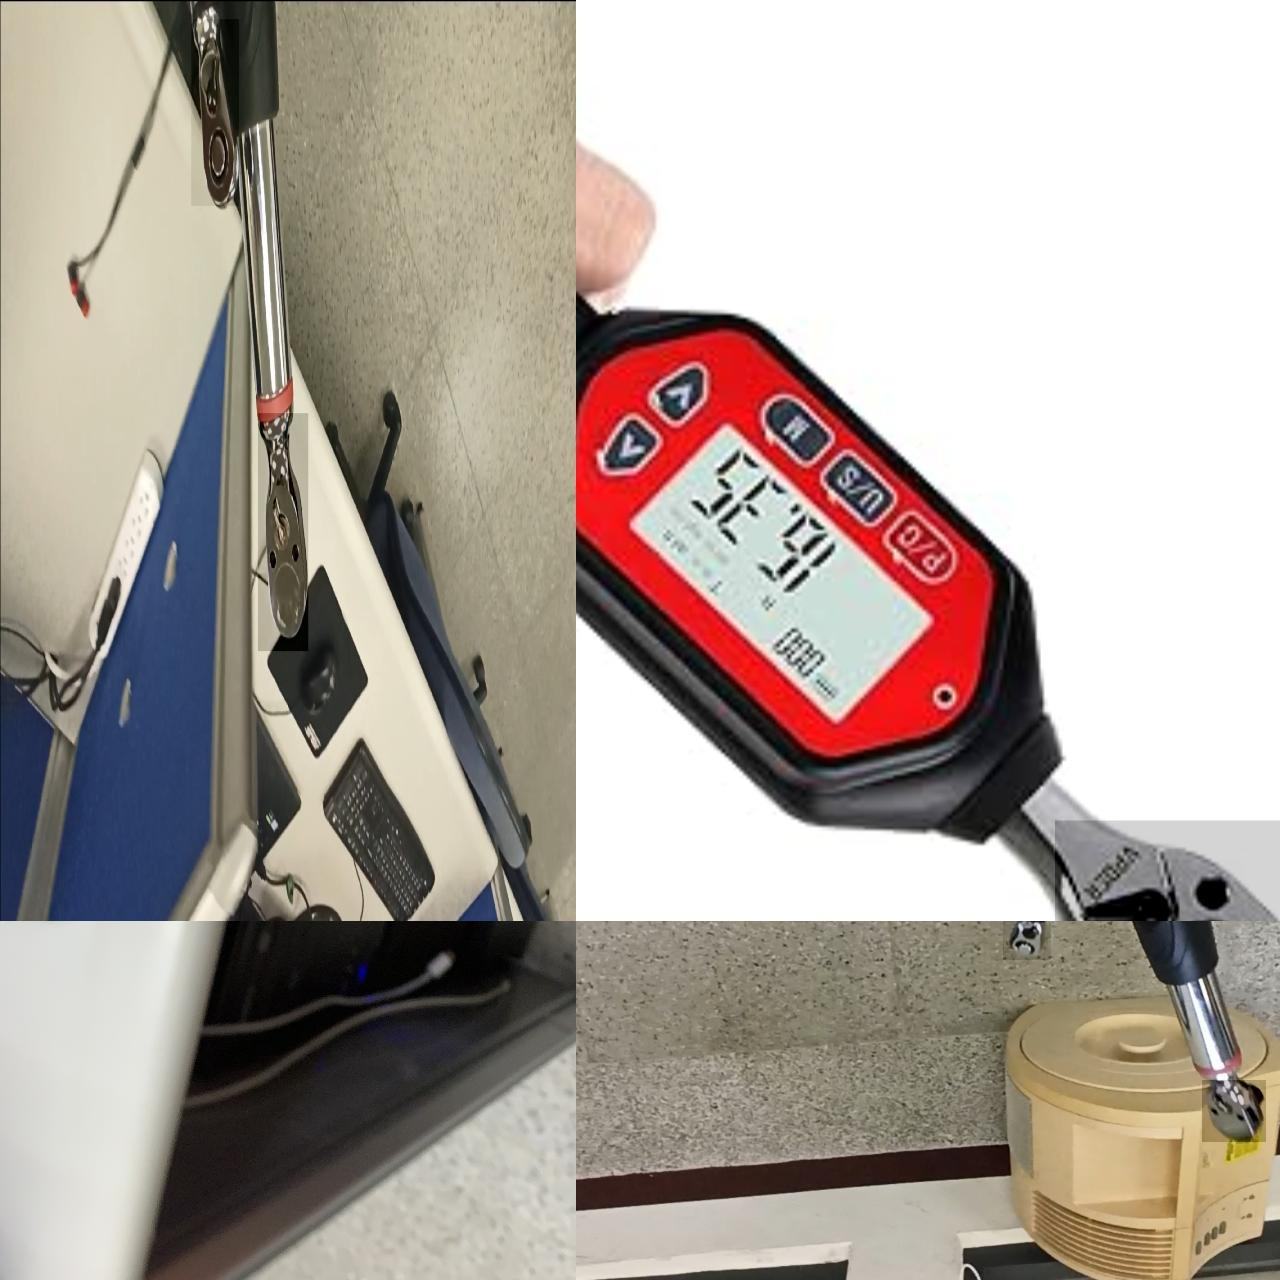Tool: (1054, 821, 1280, 921), (257, 411, 308, 651), (191, 18, 238, 205), (1201, 1080, 1265, 1141), (1002, 921, 1050, 959)
